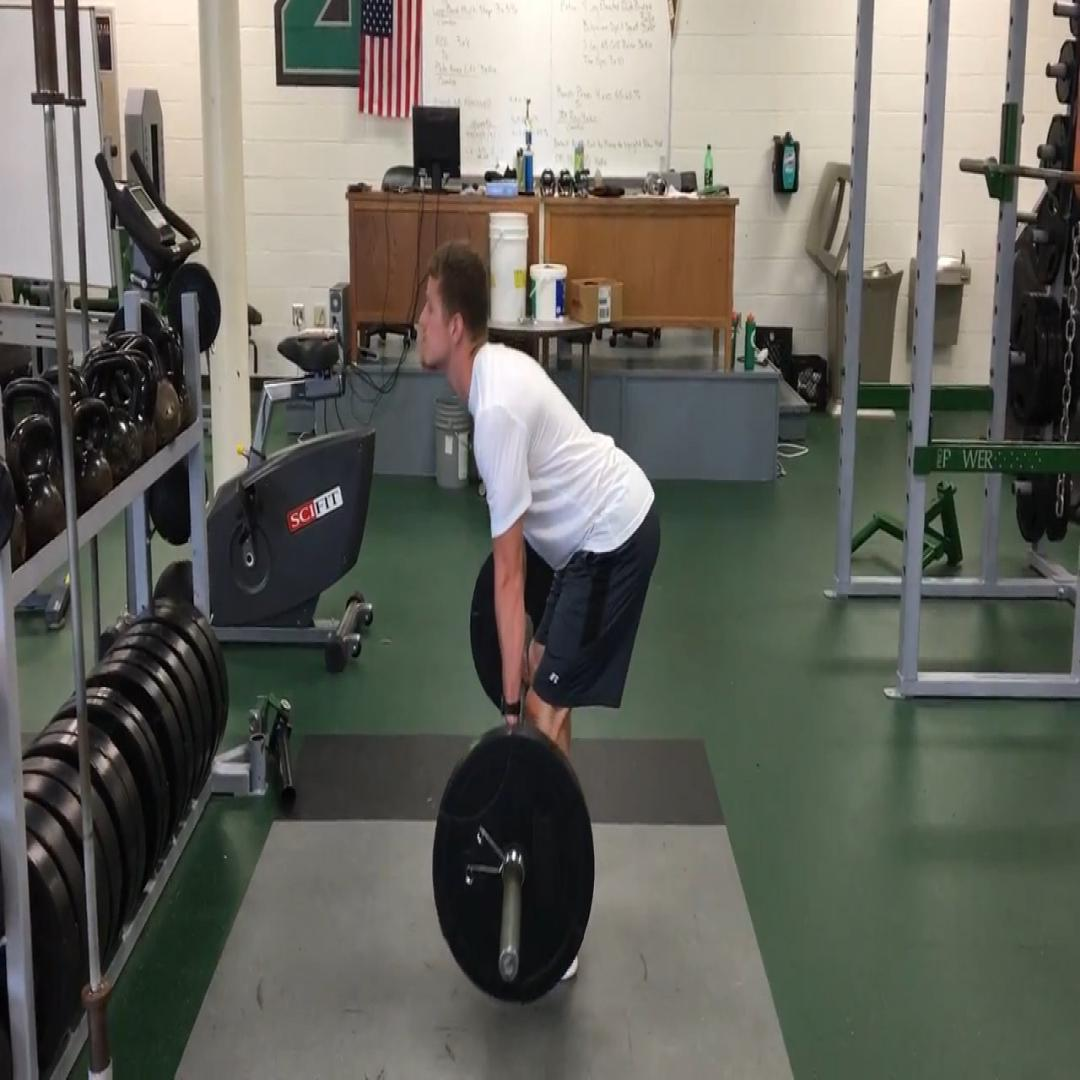Bar: (499, 948, 519, 982)
Barbell: (432, 734, 595, 1002)
